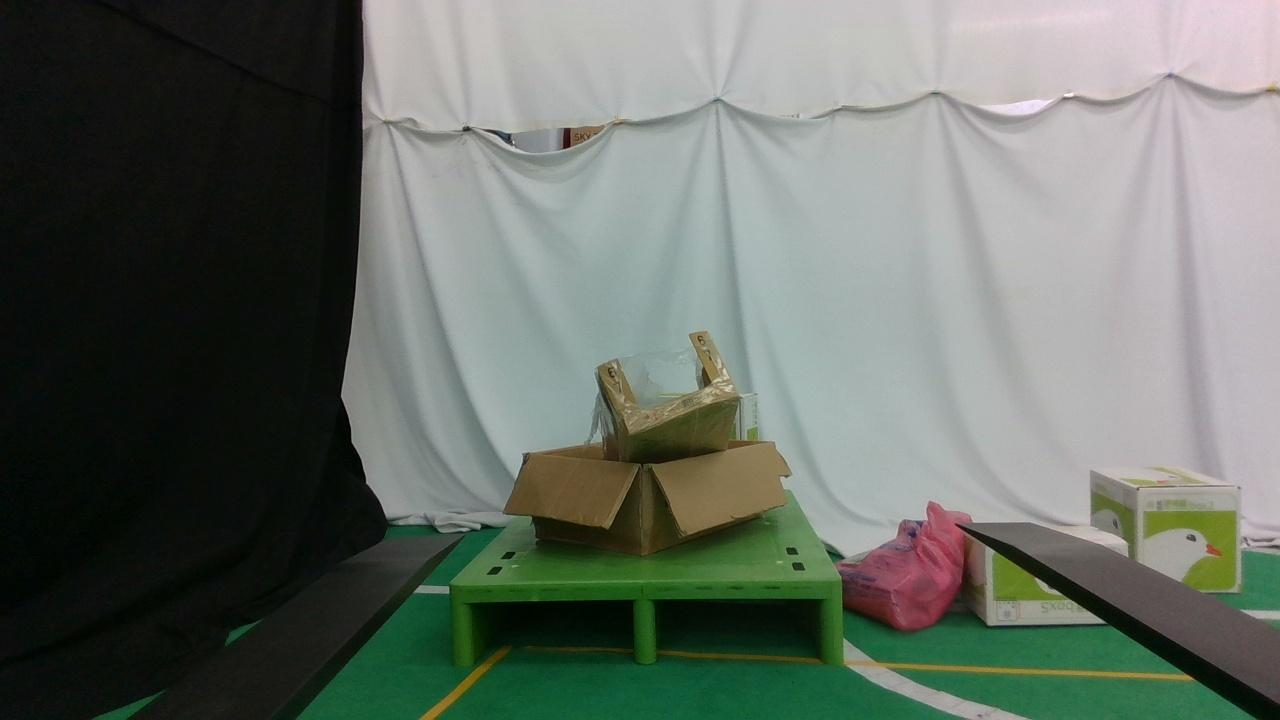Pallet: (451, 579, 845, 664)
